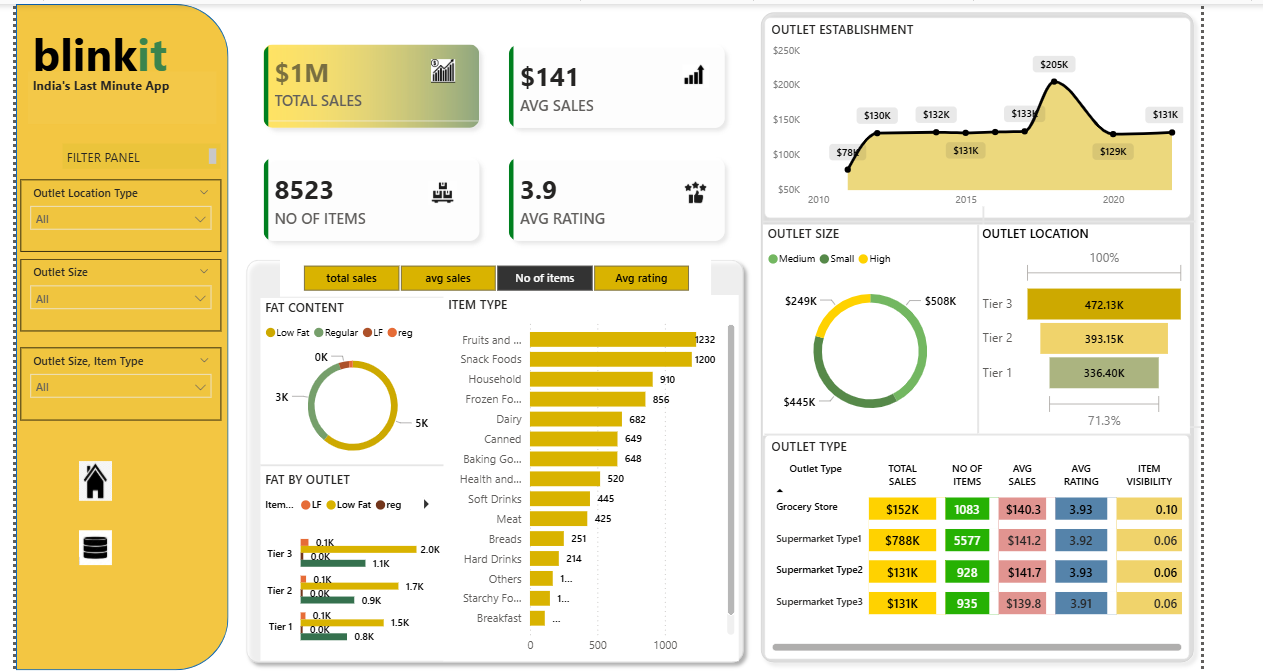

This screenshot's page, from the dashboard's own definition file:
{"tool":"powerbi","page":{"name":"Page 1","canvas":[1280,720],"ordinal":0},"visuals":[{"type":"shape","box":[0,0,229.4,719.2],"z":0},{"type":"textbox","box":[13,14.6,182.2,115.5],"z":1000},{"type":"textbox","box":[13,73.2,203.4,56.9],"z":2000},{"type":"cardVisual","fields":{"Data":["BlinkIT Grocery Data.total sales","BlinkIT Grocery Data.avg sales","BlinkIT Grocery Data.No of items","BlinkIT Grocery Data.Avg rating"]},"box":[238.2,14.5,556.4,270.9],"z":3000},{"type":"image","box":[408.4,50.4,105.8,43.9],"z":4000},{"type":"image","box":[698,55.3,71.6,45.6],"z":5000},{"type":"image","box":[426.3,177.4,70,52.1],"z":6000},{"type":"image","box":[709.4,177.4,48.8,52.1],"z":7000},{"type":"shape","box":[240,267.3,554.5,452.7],"z":8000},{"type":"donutChart","title":"FAT CONTENT","fields":{"Y":["BlinkIT Grocery Data.No of items"],"Category":["BlinkIT Grocery Data.Item Fat Content"]},"box":[263.6,317.3,198.5,187.1],"z":9000},{"type":"slicer","fields":{"Values":["Metrics.Metrics"]},"box":[284.7,275,465.4,40.7],"z":10000},{"type":"cardVisual","fields":{"Data":["BlinkIT Grocery Data.No of items"]},"box":[873.8,338.4,97.6,73.2],"z":11000},{"type":"clusteredBarChart","title":"FAT BY OUTLET","fields":{"Y":["BlinkIT Grocery Data.No of items"],"Category":["BlinkIT Grocery Data.Outlet Location Type"],"Series":["BlinkIT Grocery Data.Item Fat Content"]},"box":[263.6,503.6,198.2,205.5],"z":12000},{"type":"shape","box":[263.6,493,198.5,11.4],"z":13000},{"type":"shape","box":[461.8,334.5,14.5,372.7],"z":14000},{"type":"barChart","title":"ITEM TYPE","fields":{"Y":["BlinkIT Grocery Data.No of items"],"Category":["BlinkIT Grocery Data.Item Type"]},"box":[462.1,314,318.9,395.4],"z":15000},{"type":"shape","box":[794.5,0,485.5,720],"z":16000},{"type":"lineChart","title":"OUTLET ESTABLISHMENT","fields":{"Y":["BlinkIT Grocery Data.total sales"],"Category":["BlinkIT Grocery Data.Outlet Establishment Year"]},"box":[807.3,14.5,460,216.4],"z":17000},{"type":"shape","box":[807.3,449.1,470.9,16.4],"z":18000},{"type":"donutChart","title":"OUTLET SIZE","fields":{"Y":["BlinkIT Grocery Data.total sales"],"Category":["BlinkIT Grocery Data.Outlet Size"]},"box":[807.1,237.6,231.1,227.8],"z":19000},{"type":"shape","box":[1038.2,218.2,12.7,234.5],"z":20000},{"type":"funnel","title":"OUTLET LOCATION","fields":{"Category":["BlinkIT Grocery Data.Outlet Location Type"],"Y":["Sum(BlinkIT Grocery Data.Sales)"]},"box":[1038.2,238.2,229.1,227.3],"z":21000},{"type":"shape","box":[1030.9,238.2,14.5,225.5],"z":22000},{"type":"shape","box":[807.1,231.1,467,6.5],"z":23000},{"type":"pivotTable","title":"OUTLET TYPE","fields":{"Rows":["BlinkIT Grocery Data.Outlet Type"],"Values":["BlinkIT Grocery Data.total sales","BlinkIT Grocery Data.No of items","BlinkIT Grocery Data.avg sales","BlinkIT Grocery Data.Avg rating","Avg(BlinkIT Grocery Data.Item Visibility)"]},"box":[808.7,465.4,458.8,242.4],"z":24000},{"type":"shape","box":[808.7,458.8,460.5,13],"z":25000},{"type":"slicer","fields":{"Values":["BlinkIT Grocery Data.Outlet Location Type"]},"box":[5.5,189.1,216.4,78.2],"z":26000},{"type":"slicer","fields":{"Values":["BlinkIT Grocery Data.Outlet Size"]},"box":[5.5,274.5,216.4,78.2],"z":27000},{"type":"slicer","fields":{"Values":["BlinkIT Grocery Data.Outlet Size","BlinkIT Grocery Data.Item Type"]},"box":[5,370,216.7,78.3],"z":28000},{"type":"textbox","box":[50.9,150.9,170.9,27.3],"z":29000},{"type":"actionButton","box":[68,493.9,35.6,42.1],"z":30000},{"type":"actionButton","box":[68,568.3,35.6,37.2],"z":31000}]}

Visuals, with their boxes on the page's 1280x720 design canvas (x1, y1, x2, y2). These are canvas units, not pixel positions in the 1263x671 screenshot, which may show the page scaled, cropped or inside an application window:
shape: (0,0,229,719)
textbox: (13,15,195,130)
textbox: (13,73,216,130)
cardVisual - BlinkIT Grocery Data.total sales x BlinkIT Grocery Data.avg sales: (238,14,795,285)
image: (408,50,514,94)
image: (698,55,770,101)
image: (426,177,496,230)
image: (709,177,758,230)
shape: (240,267,794,720)
"FAT CONTENT" donutChart: (264,317,462,504)
slicer - Metrics.Metrics: (285,275,750,316)
cardVisual - BlinkIT Grocery Data.No of items: (874,338,971,412)
"FAT BY OUTLET" clusteredBarChart: (264,504,462,709)
shape: (264,493,462,504)
shape: (462,334,476,707)
"ITEM TYPE" barChart: (462,314,781,709)
shape: (794,0,1280,720)
"OUTLET ESTABLISHMENT" lineChart: (807,14,1267,231)
shape: (807,449,1278,466)
"OUTLET SIZE" donutChart: (807,238,1038,465)
shape: (1038,218,1051,453)
"OUTLET LOCATION" funnel: (1038,238,1267,466)
shape: (1031,238,1045,464)
shape: (807,231,1274,238)
"OUTLET TYPE" pivotTable: (809,465,1268,708)
shape: (809,459,1269,472)
slicer - BlinkIT Grocery Data.Outlet Location Type: (6,189,222,267)
slicer - BlinkIT Grocery Data.Outlet Size: (6,274,222,353)
slicer - BlinkIT Grocery Data.Outlet Size x BlinkIT Grocery Data.Item Type: (5,370,222,448)
textbox: (51,151,222,178)
actionButton: (68,494,104,536)
actionButton: (68,568,104,606)
